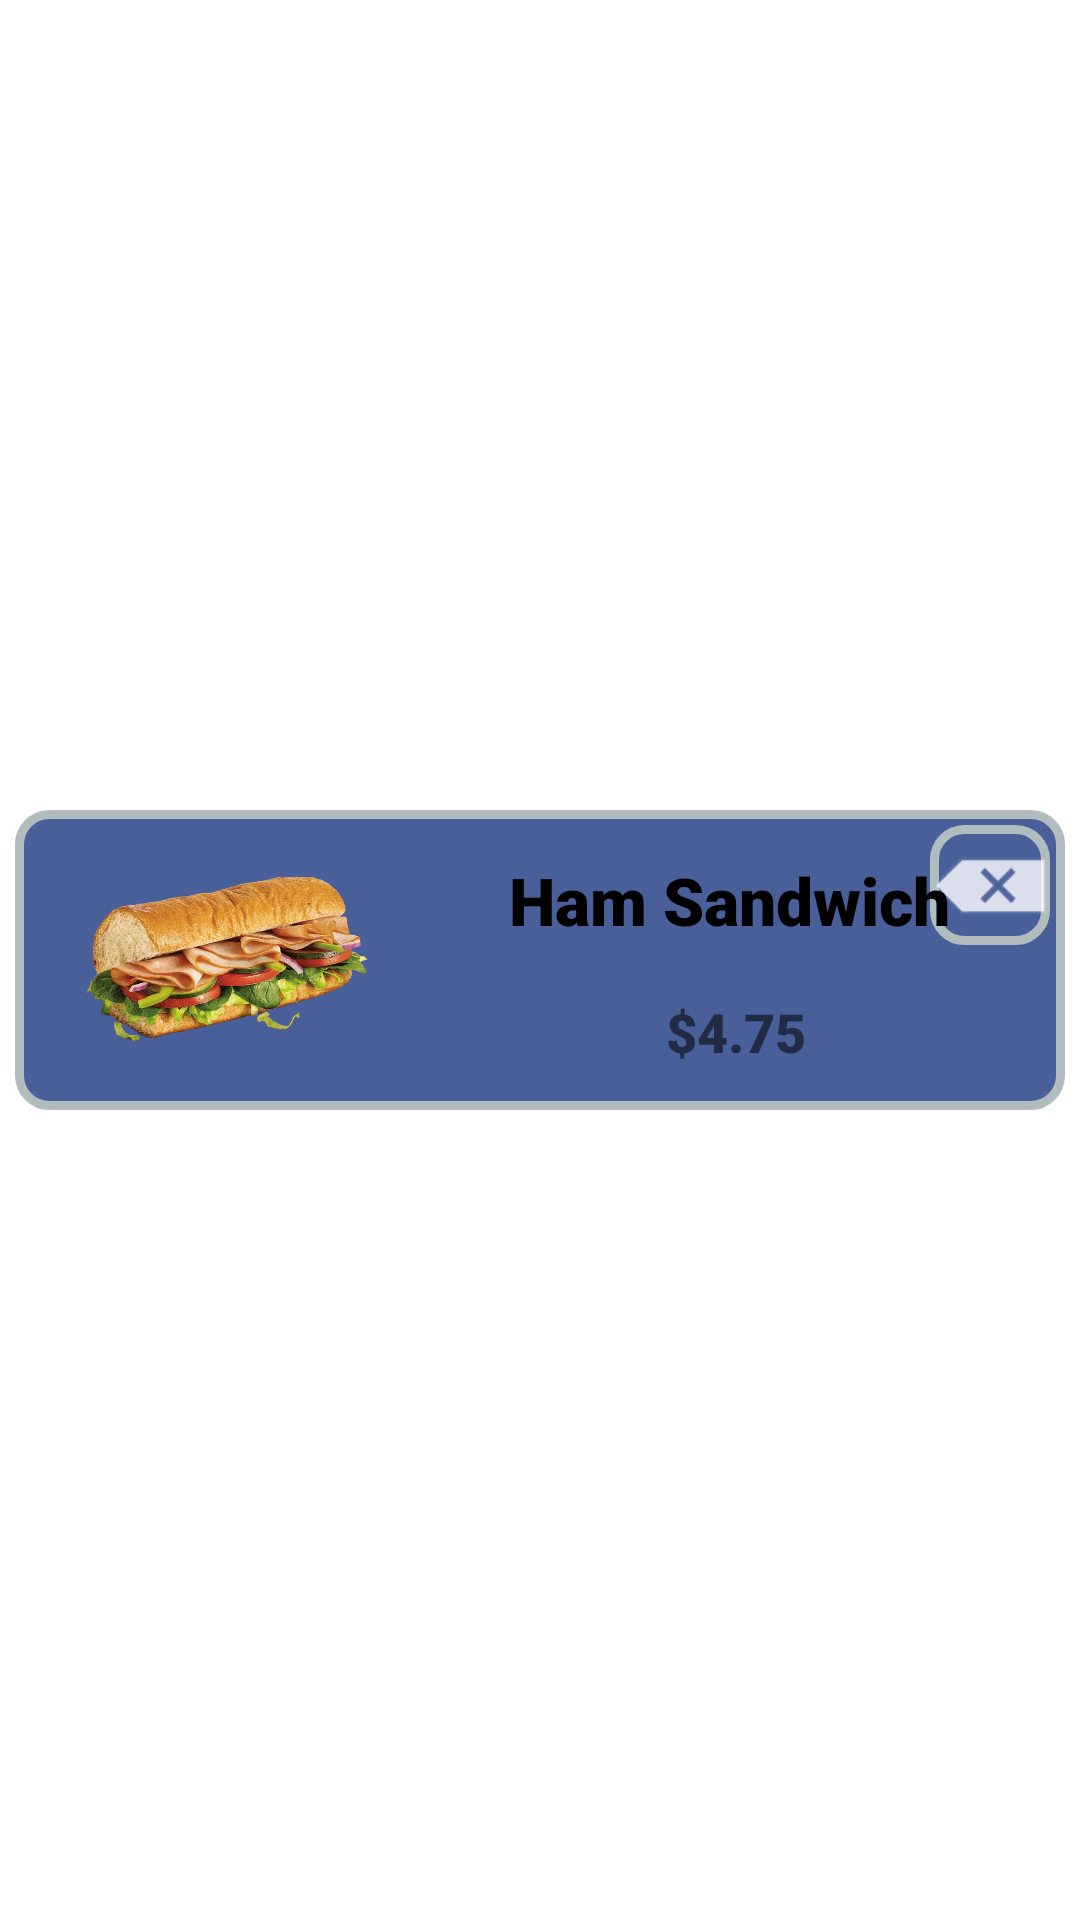

Named icons in this screenshot (1080 x 1920) and their bounding boxes, (x1, y1, x2, y2):
delete: (930, 825, 1050, 945)
